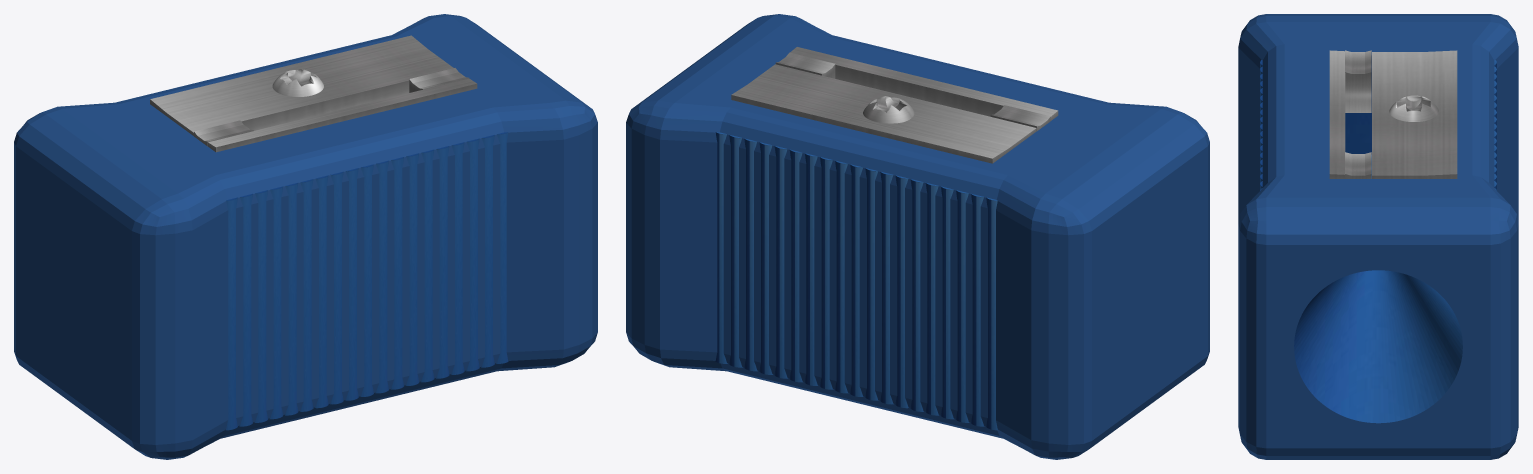
The model's file is sharpner.glb.
3 renders of one model, left to right at view 1: azimuth 30°, elevation 25°; view 2: azimuth 150°, elevation 25°; view 3: azimuth 270°, elevation 25°, orthographic. The views are drawn at different scales.
Visible parts, largest first — view 1: Roundcube.001; view 2: Roundcube.001; view 3: Roundcube.001.
Boxes of the visible parts, <box> form: Roundcube.001: <box>14,14,597,459</box>; Roundcube.001: <box>626,14,1209,459</box>; Roundcube.001: <box>1238,14,1518,459</box>.
Bounding box in the file's own units: 0.5749 × 0.3297 × 0.3106.
4 materials, 4 textured.
